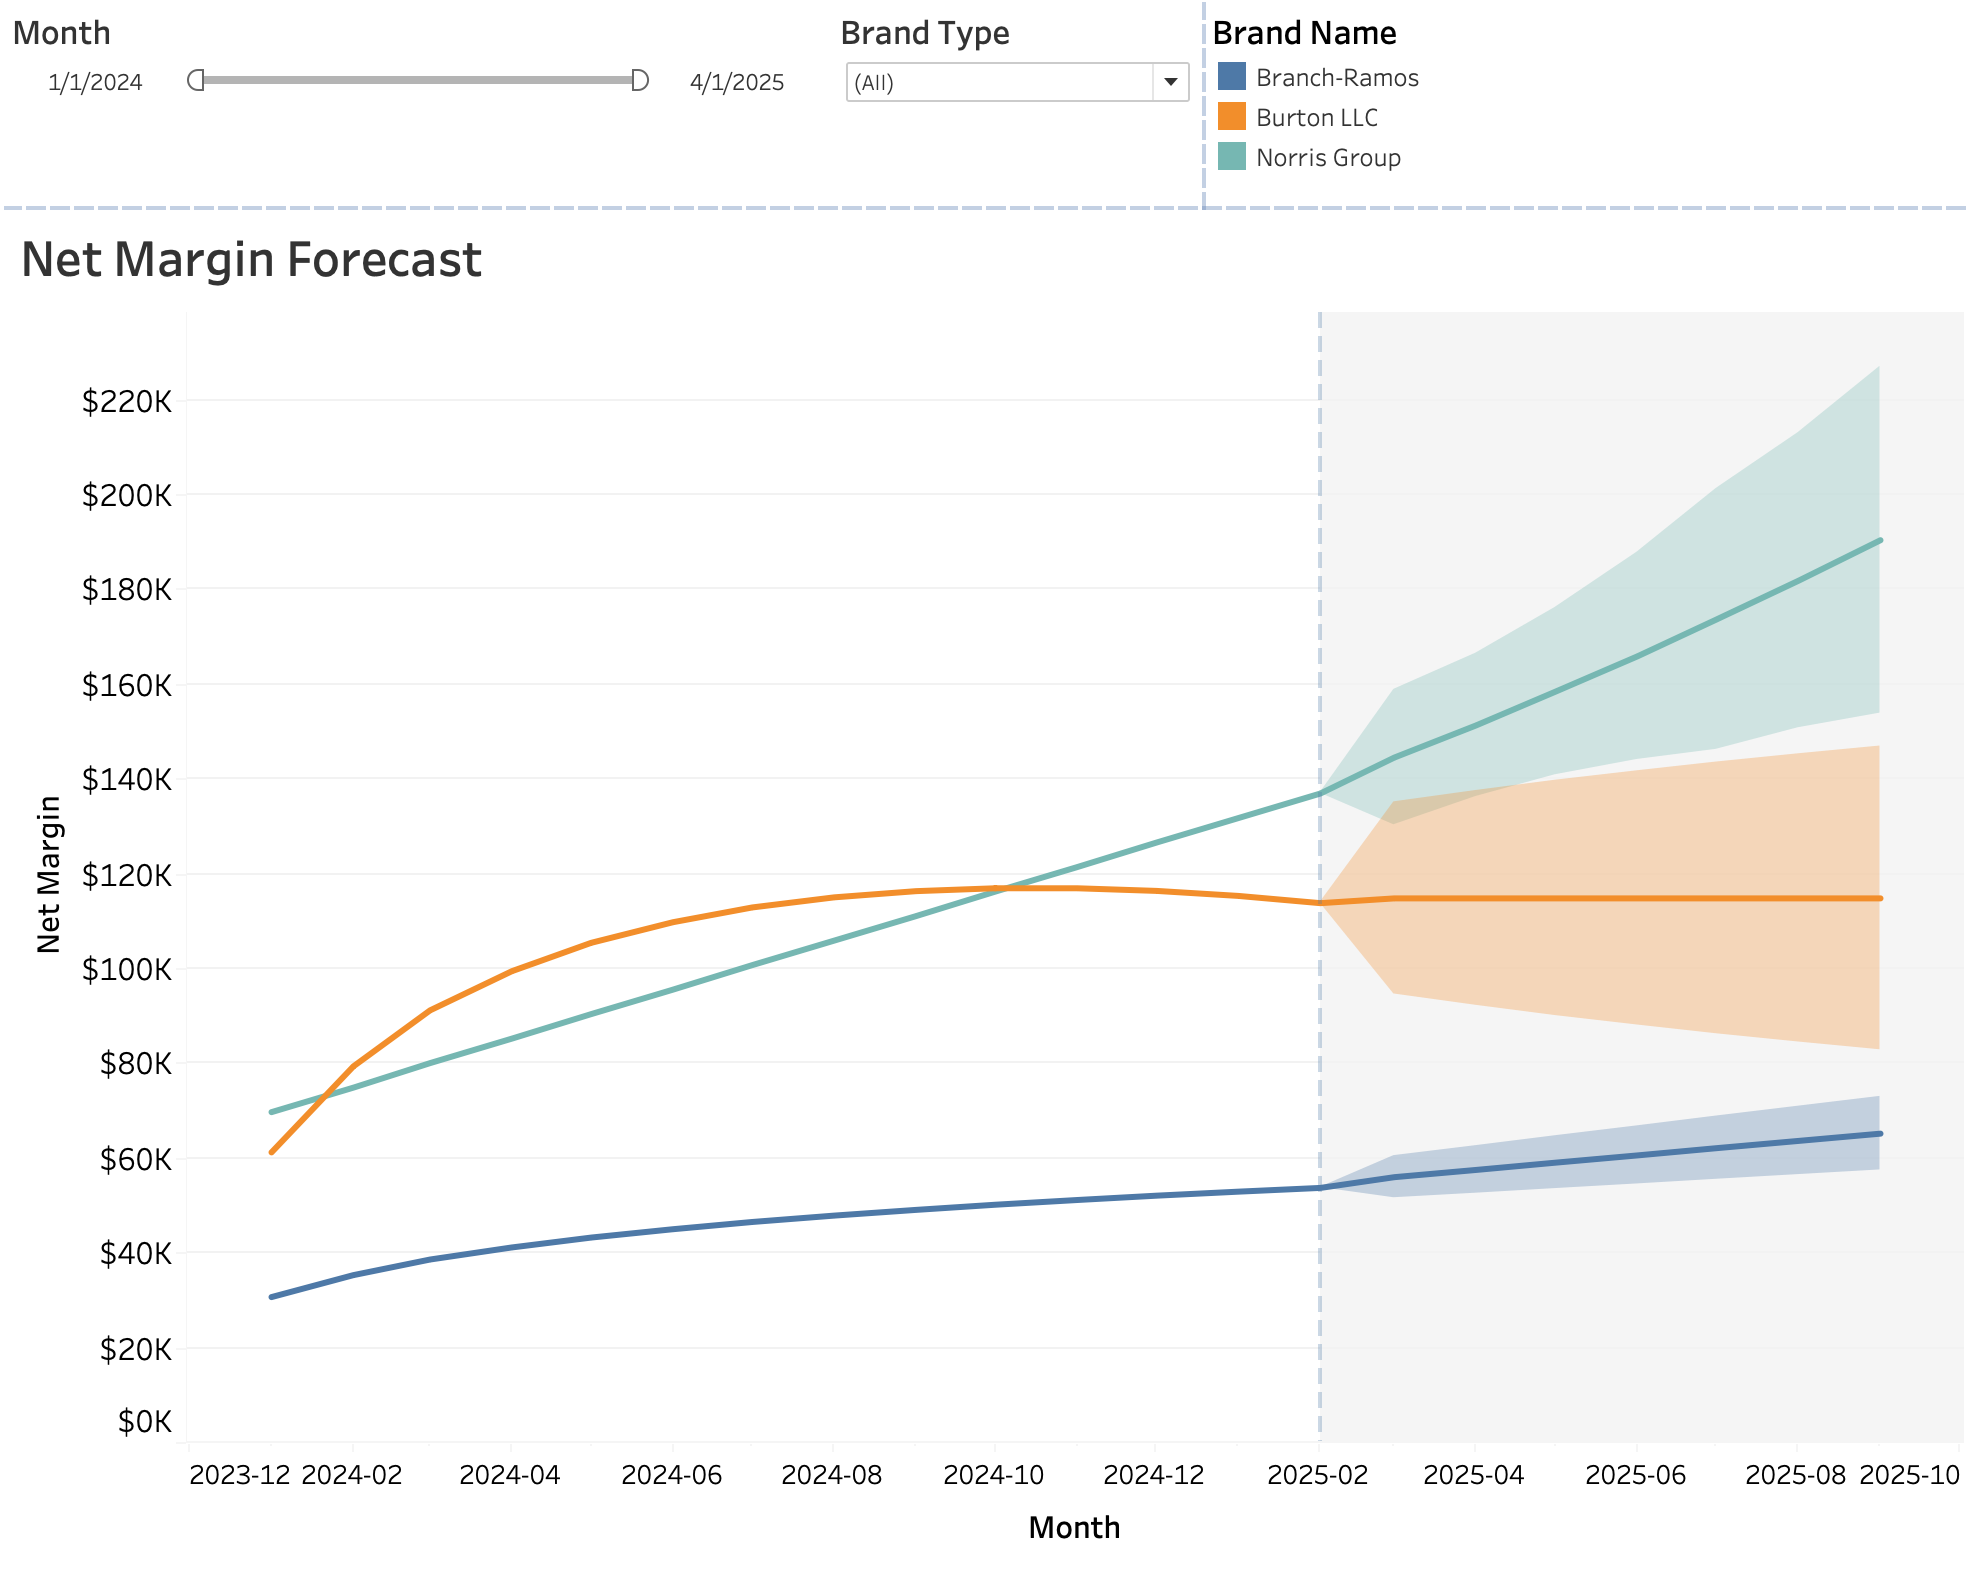

This screenshot's page, from the dashboard's own definition file:
{"tool":"tableau","page":{"name":"Profit Forecast Wkbk","canvas":[1000,800],"ordinal":0},"visuals":[{"type":"filter","title":"Profit Forecast","param":"[federated.1kta57k1fctlha1fc6pvj1w9m4na].[none:Month:qk]","box":[8,8,414,103]},{"type":"filter","title":"Profit Forecast","param":"[federated.1kta57k1fctlha1fc6pvj1w9m4na].[none:Brand Type:nk]","box":[422,8,186,103]},{"type":"legend","title":"Profit Forecast","param":"[federated.1kta57k1fctlha1fc6pvj1w9m4na].[none:Brand Name:nk]","box":[608,8,384,103]},{"type":"worksheet","title":"Profit Forecast","mark":"Automatic","rows":["Net Margin"],"cols":["Month"],"box":[8,111,984,681]}]}

Visuals, with their boxes on the page's 1000x800 design canvas (x1, y1, x2, y2). These are canvas units, not pixel positions in the 1980x1572 screenshot, which may show the page scaled, cropped or inside an application window:
"Profit Forecast" filter: <bbox>8, 8, 422, 111</bbox>
"Profit Forecast" filter: <bbox>422, 8, 608, 111</bbox>
"Profit Forecast" legend: <bbox>608, 8, 992, 111</bbox>
"Profit Forecast" worksheet: <bbox>8, 111, 992, 792</bbox>
